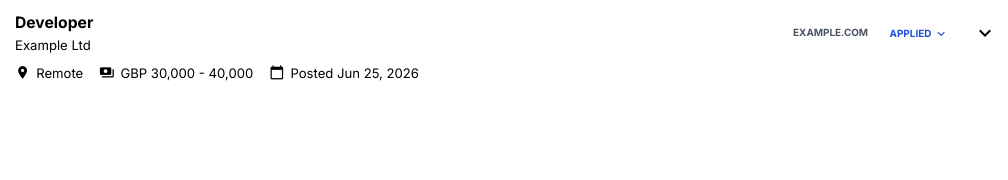
Test: JobCardComponent › shows the correct next actions in the status dropdown
This screenshot has width=1008, height=180.
Expected: the text "Mark Interview" is not shown
Click the button with class "status-dropdown". click: (919,34)
box: [883,23,955,46]
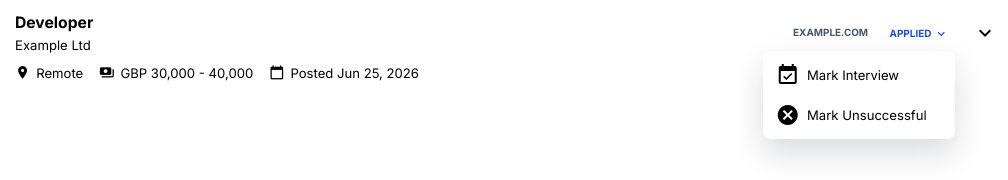
Expected: the text "Mark Interview" is shown, [767,56,951,96]
Expected: the text "Mark Unsuccessful" is shown, [767,96,951,136]
